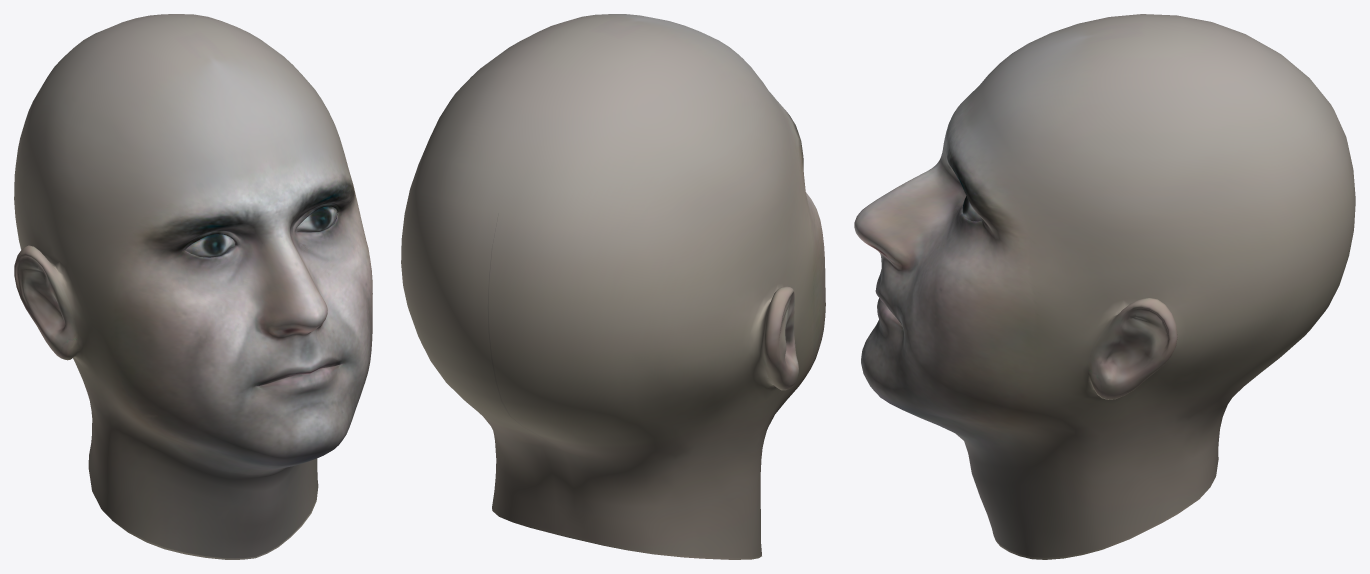
3 views of the same model, side by side, from view 1: azimuth 30°, elevation 25°; view 2: azimuth 150°, elevation 25°; view 3: azimuth 270°, elevation 25° (orthographic). The views are drawn at different scales.
Visible parts, largest first — view 1: skin_hi, eyeR_hi, eyeL_hi; view 2: skin_hi; view 3: skin_hi.
Part boxes in pixels (bbox=[...]): skin_hi: bbox=[14, 14, 372, 559]; eyeR_hi: bbox=[185, 234, 234, 257]; eyeL_hi: bbox=[295, 206, 337, 232]; skin_hi: bbox=[401, 14, 825, 559]; skin_hi: bbox=[854, 14, 1355, 559].
Size of the model in its own units: 198 by 279 by 249.
Materials: 3 (3 with a texture image).
